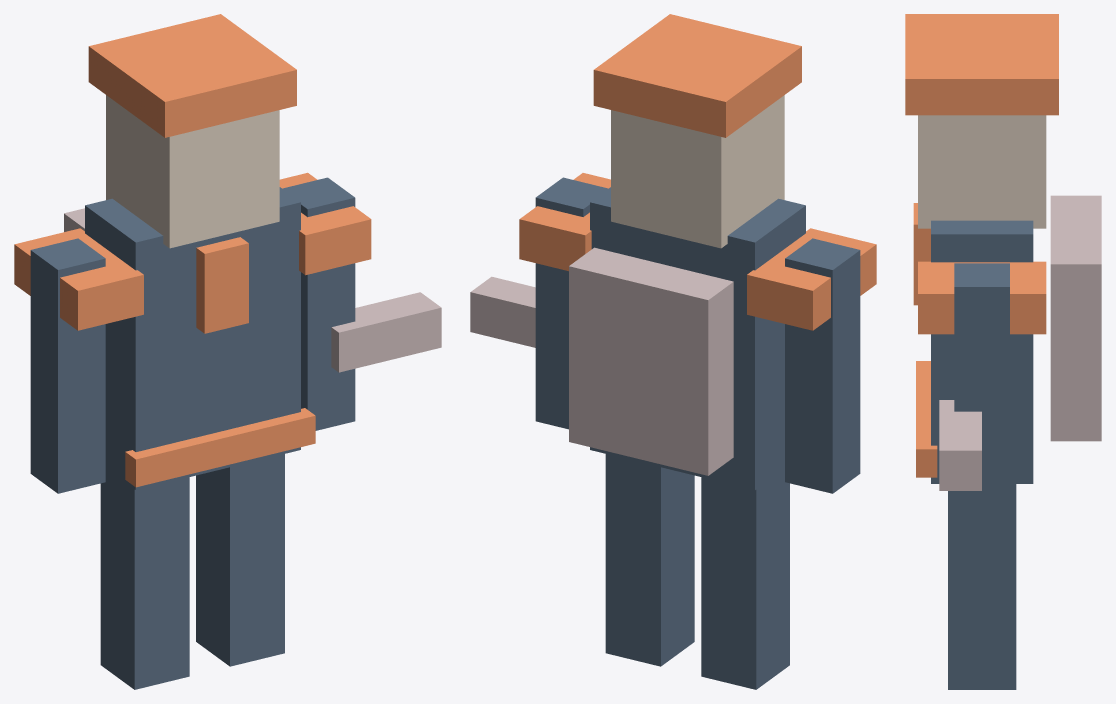
The model's file is 03_astra_spirebound_watcher_from_cargo.glb.
The picture shows the model from 3 angles, left to right: view 1: azimuth 30°, elevation 25°; view 2: azimuth 150°, elevation 25°; view 3: azimuth 270°, elevation 25°; orthographic projection.
Visible parts, largest first — view 1: Astra Spirebound, Watcher from Cargo; view 2: Astra Spirebound, Watcher from Cargo; view 3: Astra Spirebound, Watcher from Cargo.
Boxes of the visible parts, <box> form: Astra Spirebound, Watcher from Cargo: <box>14,14,441,689</box>; Astra Spirebound, Watcher from Cargo: <box>470,14,876,689</box>; Astra Spirebound, Watcher from Cargo: <box>905,14,1101,689</box>.
Bounding box in the file's own units: 0.9747 × 1.49 × 0.4374.
